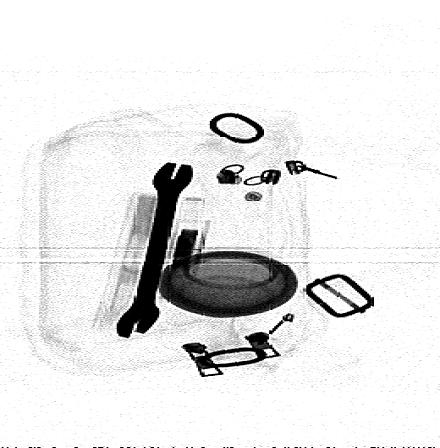Wrench: (116, 161, 192, 338)
